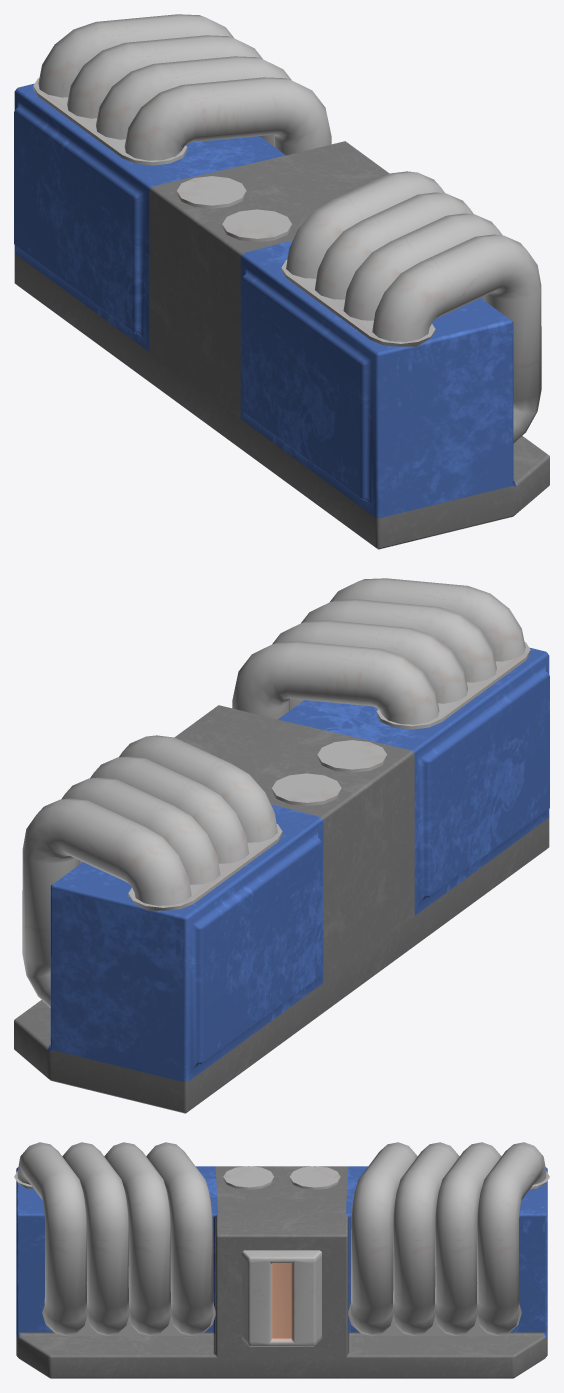
File: SM_UPF-Cannon_AVPC-90.fbx
The picture shows the model from 3 angles, top to bottom: view 1: azimuth 30°, elevation 25°; view 2: azimuth 150°, elevation 25°; view 3: azimuth 270°, elevation 25°; orthographic projection. The views are drawn at different scales.
Parts seen in each view (by area): view 1: Generator, Cylinder.011, Cylinder.010, Cylinder.012; view 2: Generator, Cylinder.011, Cylinder.010, Cylinder.012; view 3: Cylinder.011, Generator, Cube.012, Cylinder.010, Cylinder.012.
Part boxes in pixels (box(x1,y1,x2,y2)): Generator: box(14, 83, 549, 549); Cylinder.011: box(38, 14, 541, 443); Cylinder.010: box(176, 176, 292, 242); Cylinder.012: box(33, 78, 435, 346); Generator: box(14, 647, 549, 1113); Cylinder.011: box(22, 578, 525, 1007); Cylinder.010: box(271, 740, 387, 806); Cylinder.012: box(128, 642, 530, 910); Cylinder.011: box(17, 1142, 546, 1335); Generator: box(16, 1166, 547, 1378); Cube.012: box(242, 1250, 321, 1346); Cylinder.010: box(223, 1166, 340, 1189); Cylinder.012: box(14, 1171, 549, 1335).
Size of what is drawn, in the model's own units: 570 by 624 by 1614.
